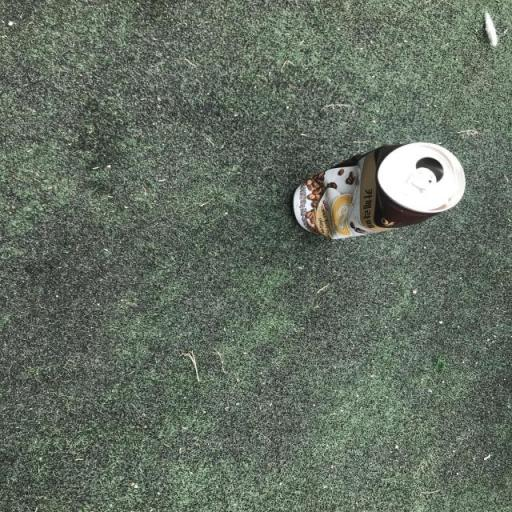metal: (283, 127, 479, 249)
